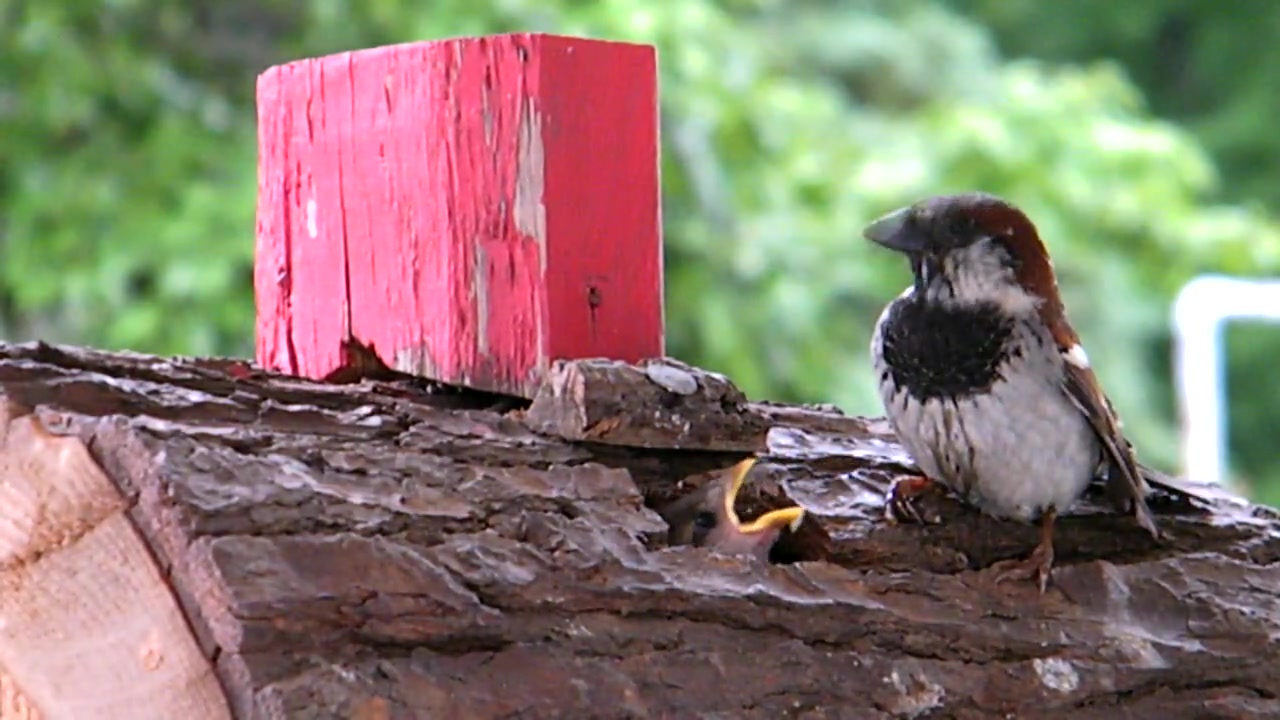bird: (861, 196, 1173, 597)
